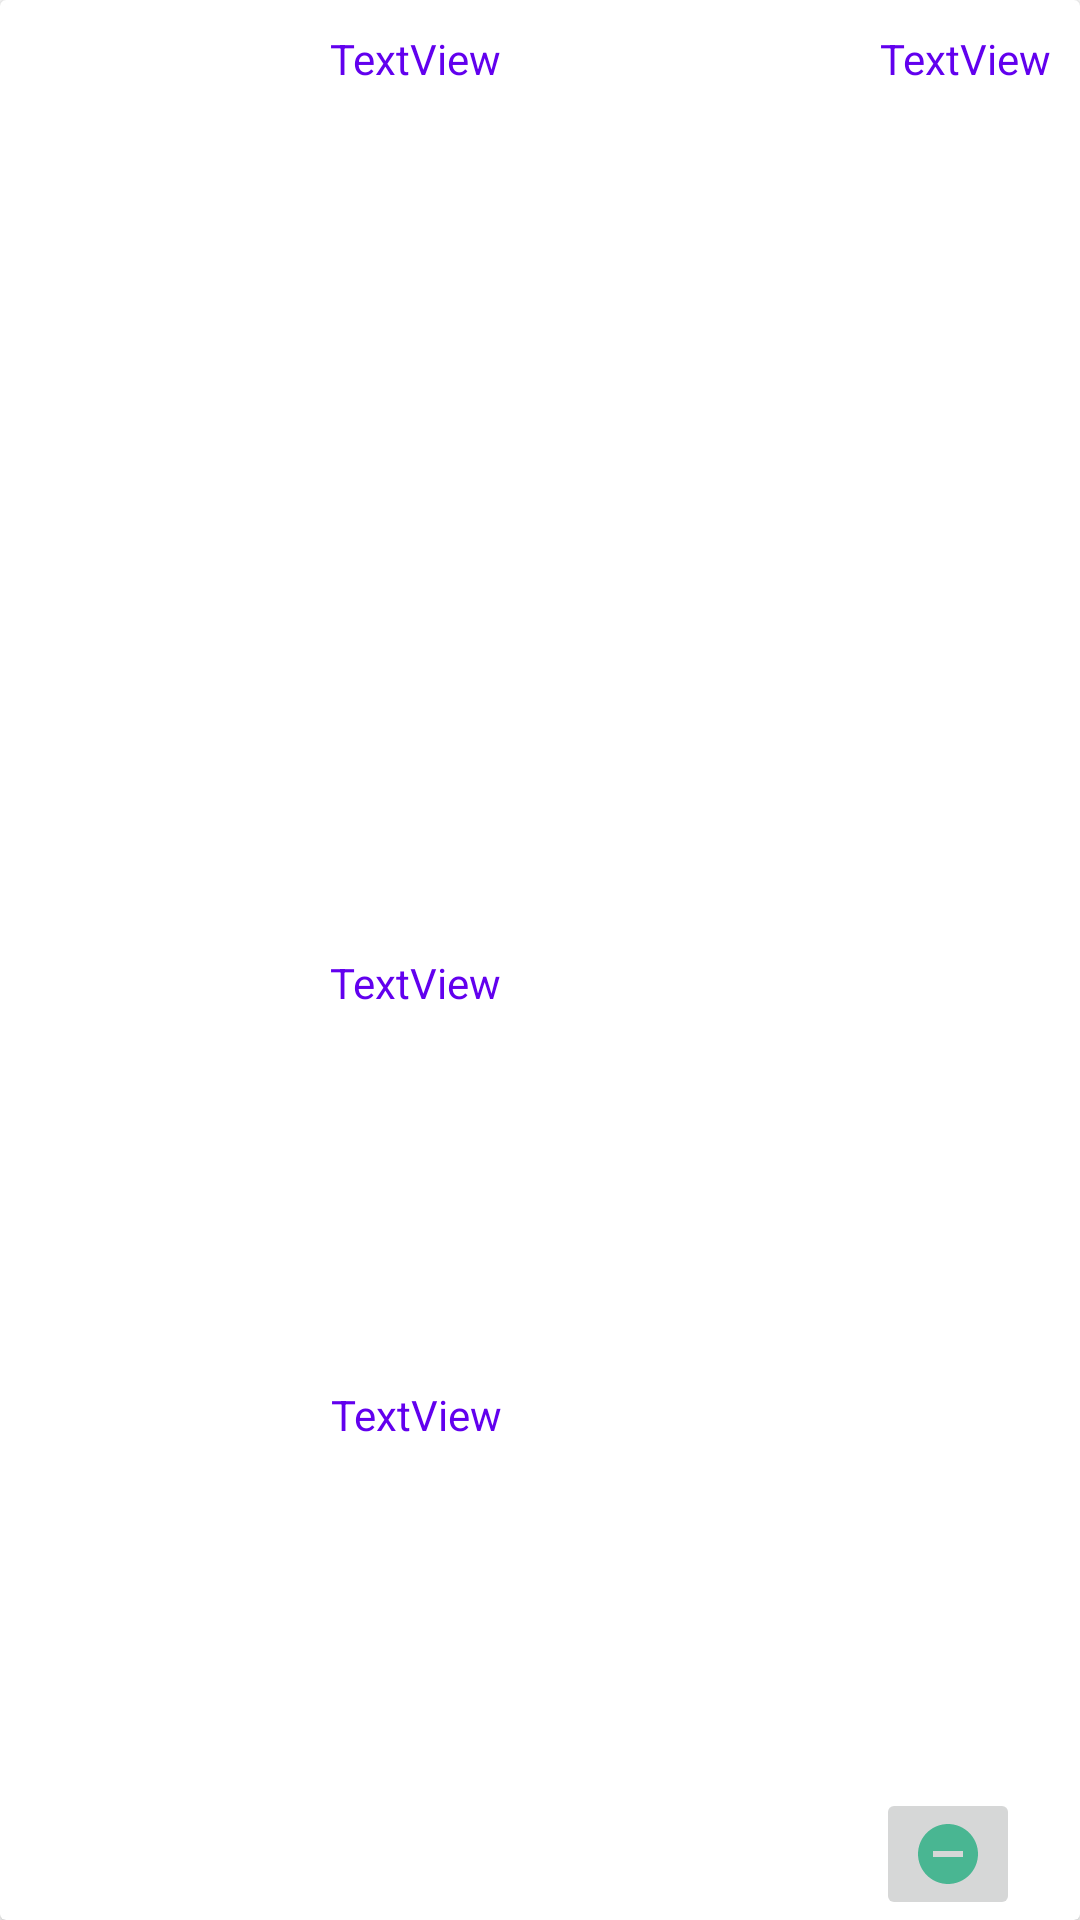

Where icons sit on this 1080×1920 app screen, as (x1, y1, x2, y2):
remove circle: (888, 1806, 1008, 1902)
